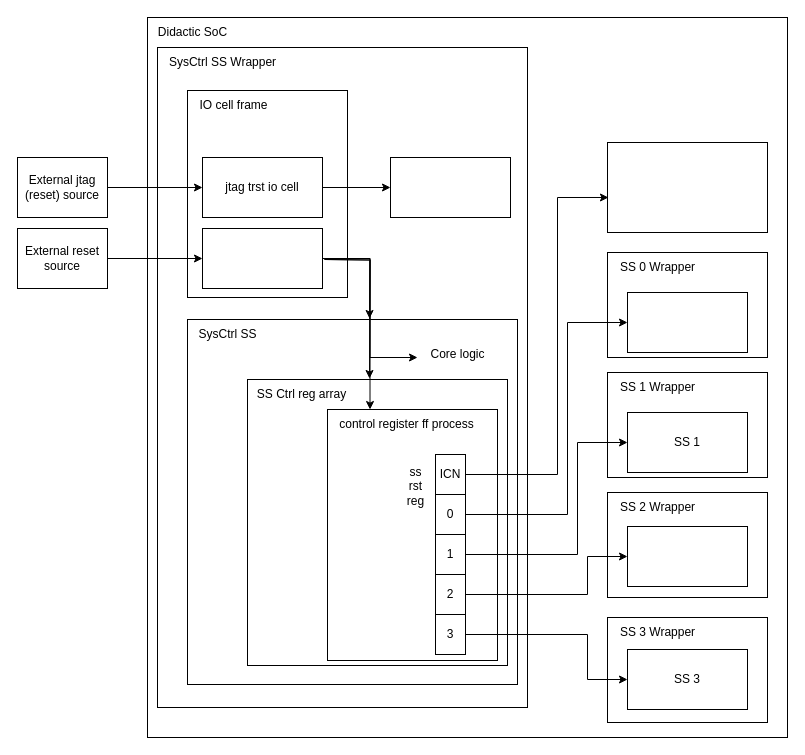
Some shapes in this 805 by 755 pixel diagram are drawn without their labels. Each missing label, with the box of its shape:
Interconnect SS: (606, 142, 768, 232)
jtag debug module: (390, 156, 510, 218)
Rst io cell: (202, 228, 322, 288)
SS 0: (626, 292, 748, 352)
SS 2: (626, 526, 748, 586)
